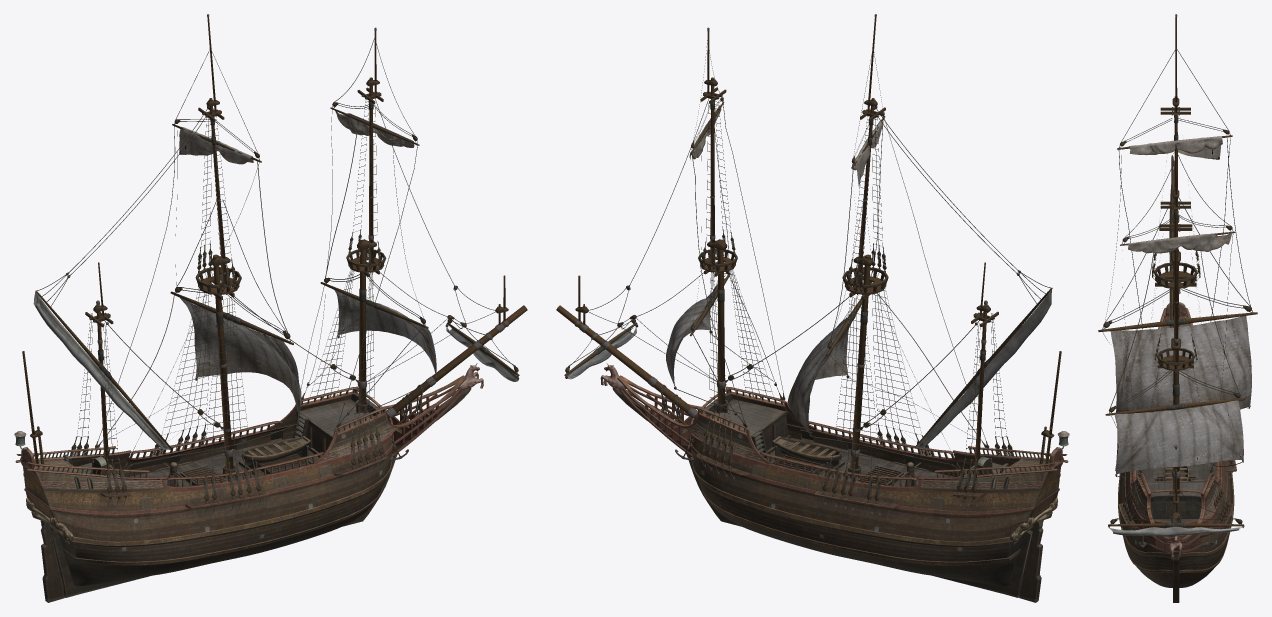
File: dutch_ship_medium.glb
3 renders of one model, left to right at view 1: azimuth 30°, elevation 25°; view 2: azimuth 150°, elevation 25°; view 3: azimuth 270°, elevation 25°, orthographic. The views are drawn at different scales.
Parts seen in each view (by area): view 1: dutch_ship_medium_hull, dutch_ship_medium_rigging, dutch_ship_medium_sails; view 2: dutch_ship_medium_hull, dutch_ship_medium_rigging, dutch_ship_medium_sails; view 3: dutch_ship_medium_sails, dutch_ship_medium_rigging, dutch_ship_medium_hull.
Part boxes in pixels (x1,y1,x2,y2): dutch_ship_medium_hull: [14, 363, 483, 602]; dutch_ship_medium_rigging: [22, 14, 527, 516]; dutch_ship_medium_sails: [179, 111, 436, 419]; dutch_ship_medium_hull: [600, 363, 1069, 602]; dutch_ship_medium_rigging: [556, 14, 1061, 516]; dutch_ship_medium_sails: [666, 104, 882, 433]; dutch_ship_medium_sails: [1110, 136, 1251, 474]; dutch_ship_medium_rigging: [1098, 14, 1257, 547]; dutch_ship_medium_hull: [1115, 289, 1236, 602].
Size of the model in its own units: 24.07 by 24.66 by 6.81.
Materials: 3 (3 with a texture image).
